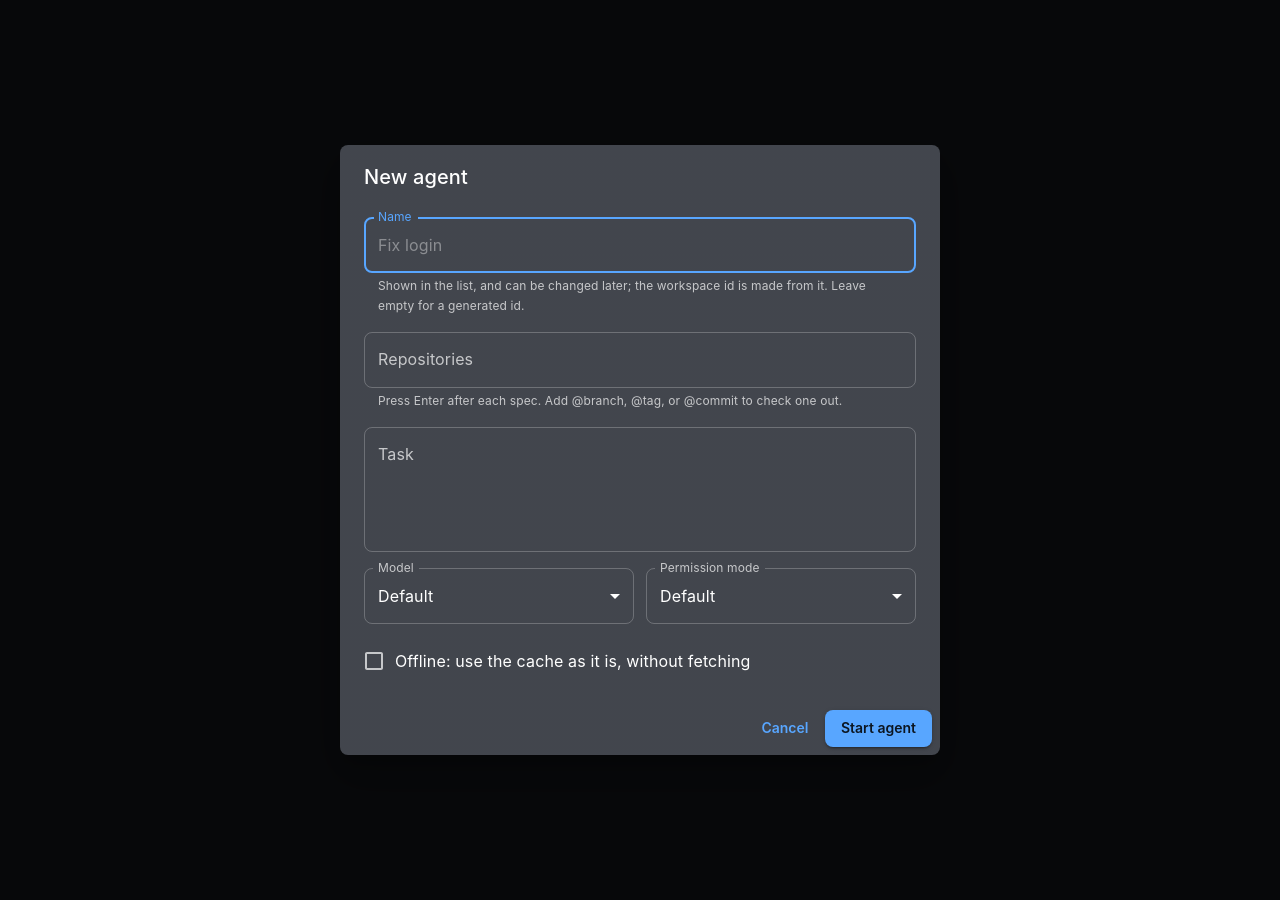
Test: NewAgentDialog › explains how to trust the workspace root
Click the button "Start agent" at (878, 728), box [825,710,932,747]
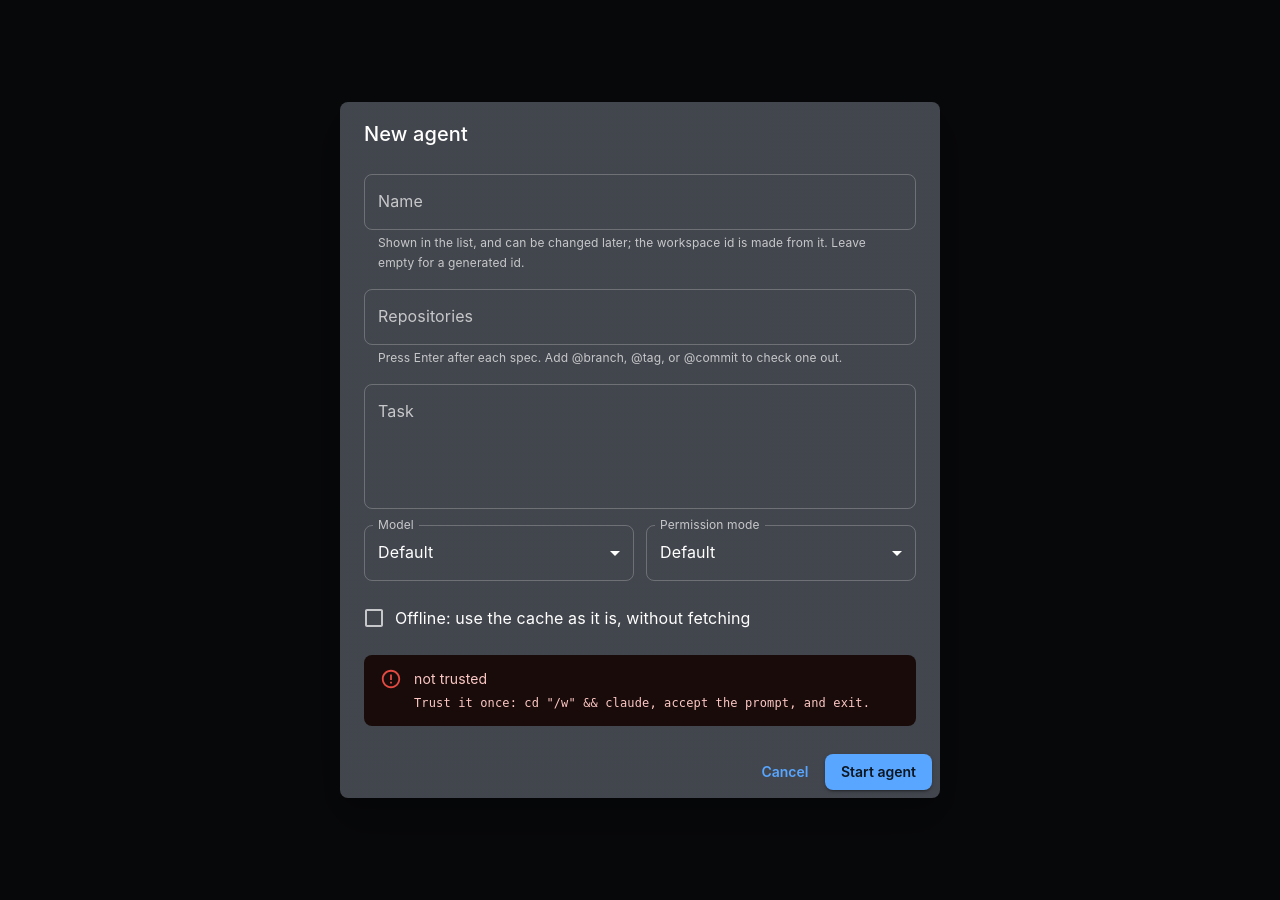
Check: the text "cd \"/w\" && claude" is shown, box [414,696,870,710]
